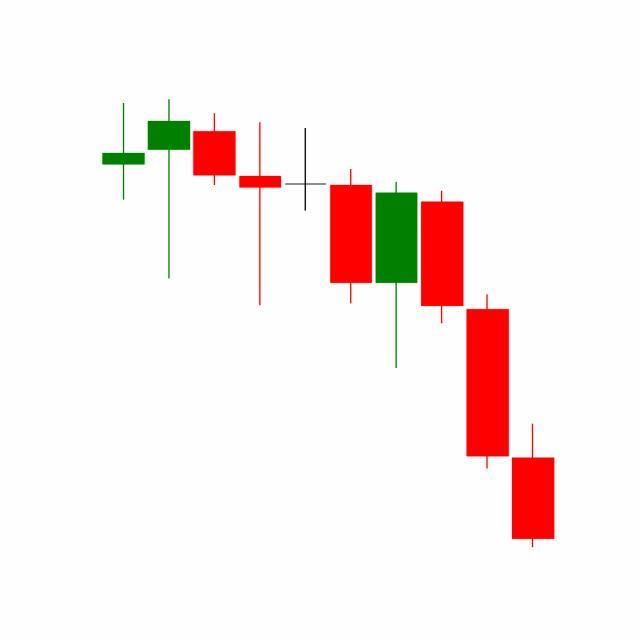Hikkake Pattern: (283, 124, 512, 473)
